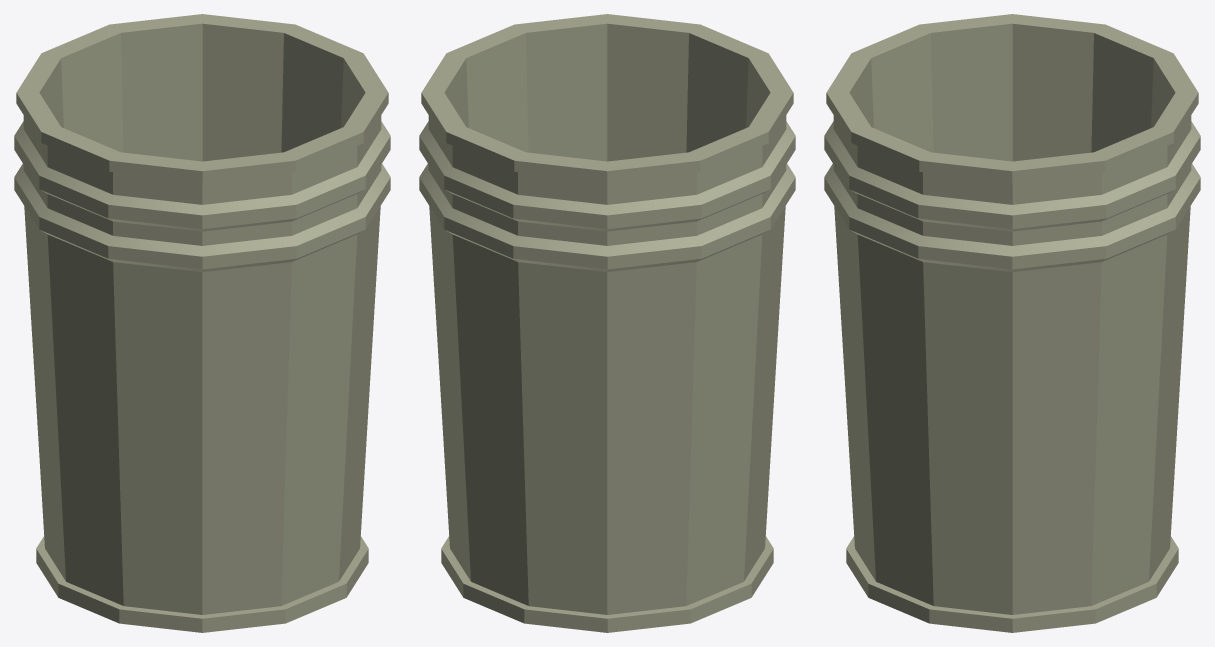
The model's file is garbagebin.fbx.
3 renders of one model, left to right at view 1: azimuth 30°, elevation 25°; view 2: azimuth 150°, elevation 25°; view 3: azimuth 270°, elevation 25°, orthographic.
Parts seen in each view (by area): view 1: pCylinder6; view 2: pCylinder6; view 3: pCylinder6.
Part boxes in pixels (x1=…): pCylinder6: x1=14, y1=14, x2=390, y2=632; pCylinder6: x1=419, y1=14, x2=795, y2=632; pCylinder6: x1=824, y1=14, x2=1200, y2=632.
Size of the model in its own units: 3.78 by 5.21 by 3.78.
